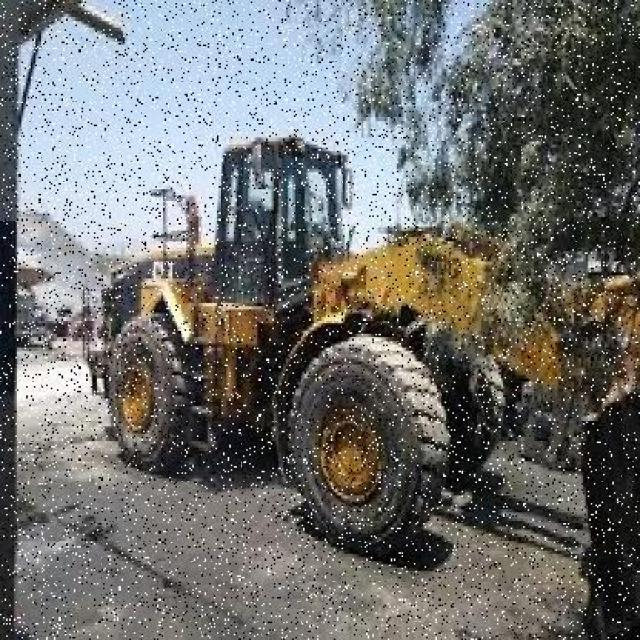buldozerpayloadergrader: (74, 130, 492, 564)
